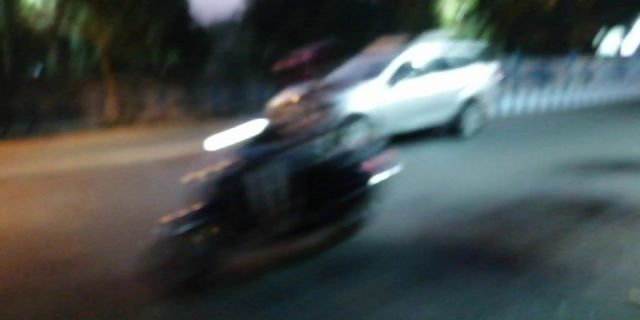Car: (334, 34, 508, 136)
Motorbike: (143, 55, 380, 269)
